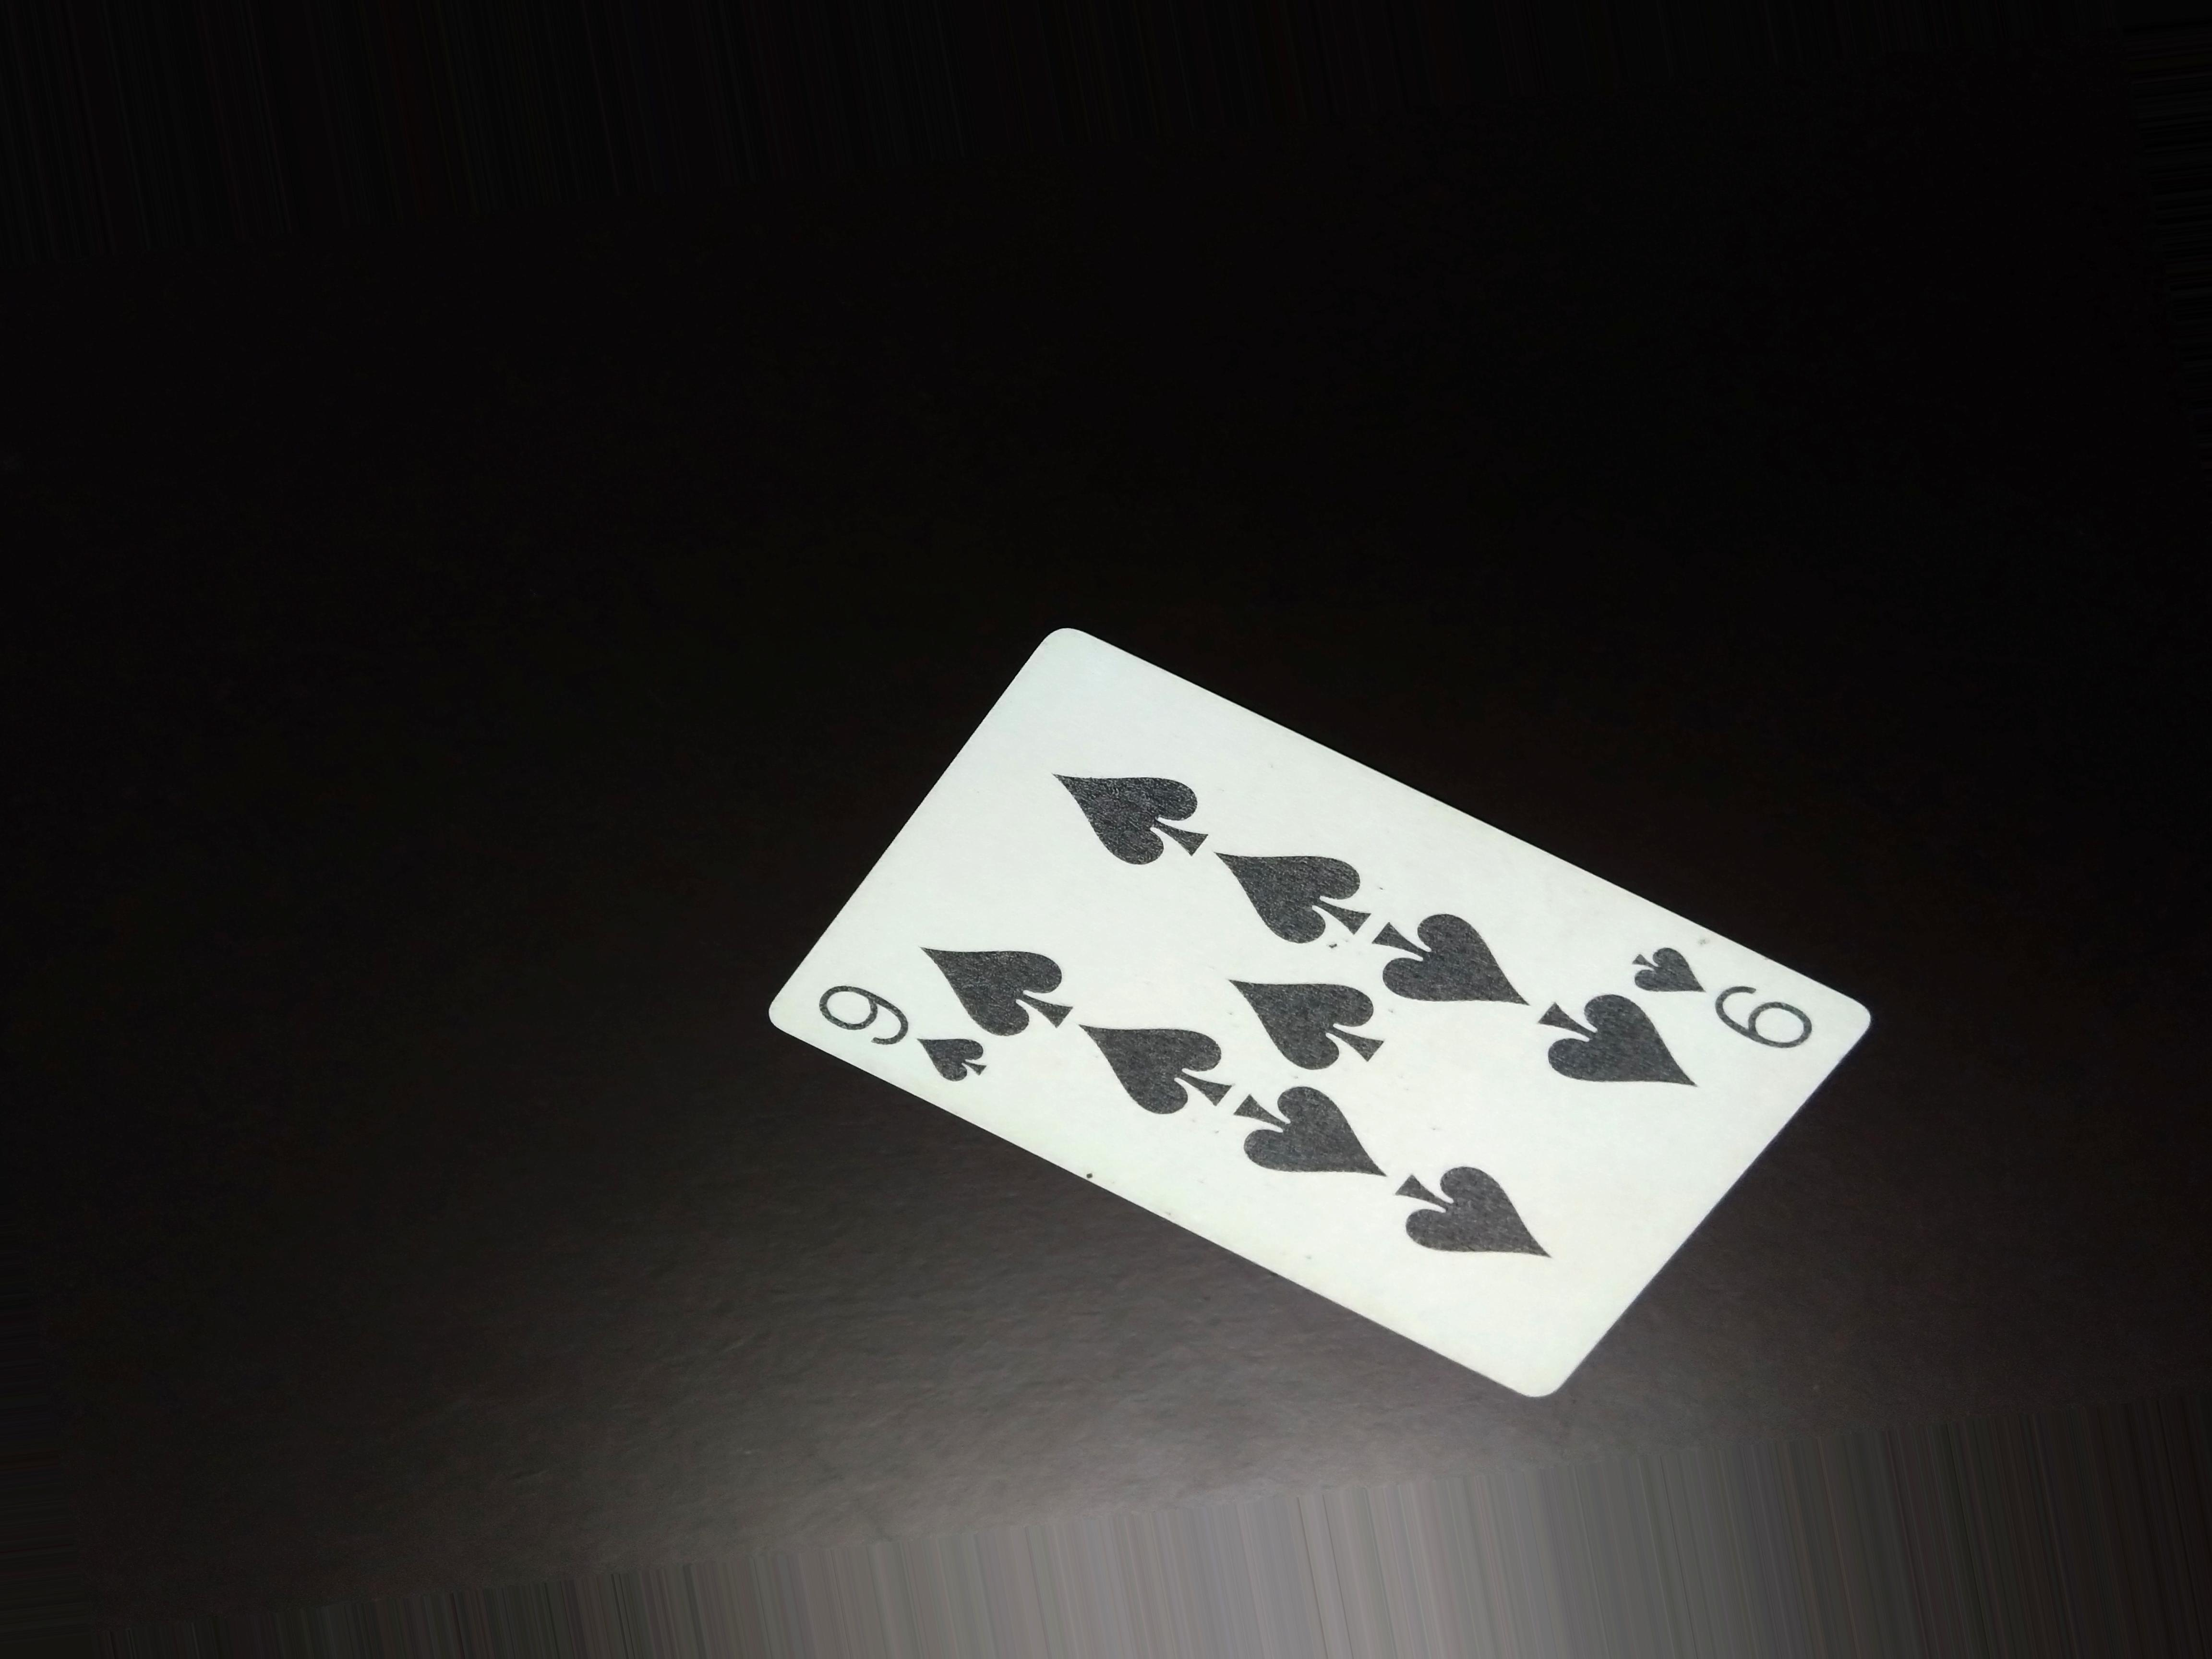9S: (1620, 927, 1825, 1077)
